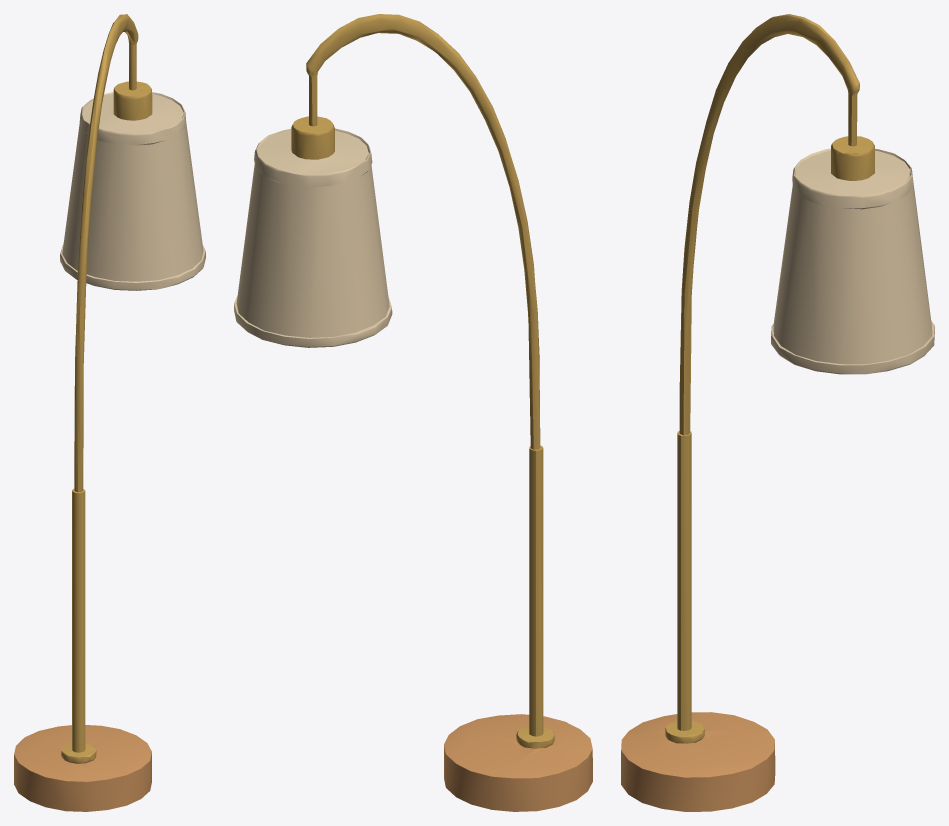
The model's file is GJH_NEW_lamp_floor.glb.
The picture shows the model from 3 angles, left to right: view 1: azimuth 30°, elevation 25°; view 2: azimuth 150°, elevation 25°; view 3: azimuth 270°, elevation 25°; orthographic projection. The views are drawn at different scales.
Visible parts, largest first — view 1: GJH_NEW_lamp_floor; view 2: GJH_NEW_lamp_floor; view 3: GJH_NEW_lamp_floor.
Boxes of the visible parts, x1,y1,x2,y2 form: GJH_NEW_lamp_floor: (14, 14, 205, 811); GJH_NEW_lamp_floor: (234, 14, 592, 811); GJH_NEW_lamp_floor: (621, 14, 934, 811).
Bounding box in the file's own units: 0.6 × 1.7 × 0.6.
